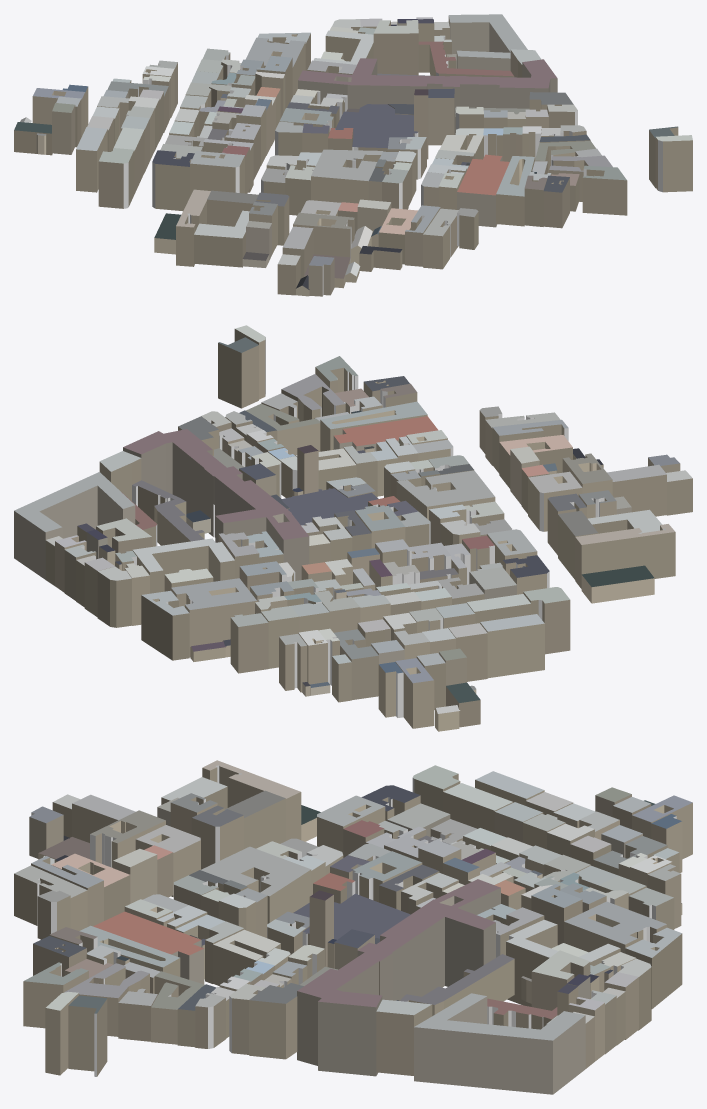
3 views of the same model, one above another, from view 1: azimuth 30°, elevation 25°; view 2: azimuth 150°, elevation 25°; view 3: azimuth 270°, elevation 25° (orthographic). The views are drawn at different scales.
Visible parts, largest first — view 1: tuile; view 2: tuile; view 3: tuile.
Boxes of the visible parts, left/top/right/bottom form: tuile: left=14, top=14, right=692, bottom=296; tuile: left=14, top=325, right=692, bottom=731; tuile: left=14, top=760, right=692, bottom=1094.
Bounding box in the file's own units: 266 × 47.07 × 267.
